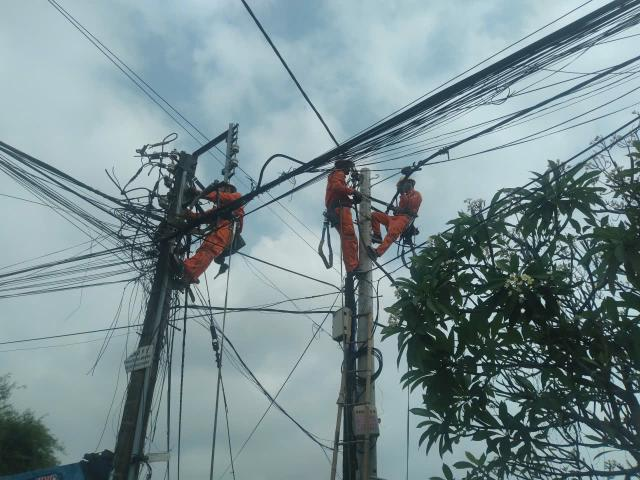gloves: (187, 186, 201, 197), (351, 188, 363, 199), (394, 184, 405, 194)
harness: (326, 197, 356, 213), (391, 203, 421, 219), (219, 211, 244, 230)
helmet: (330, 154, 361, 173), (214, 175, 242, 195), (393, 171, 419, 191)
shoes: (348, 265, 371, 278), (364, 246, 380, 262), (367, 233, 384, 243)
